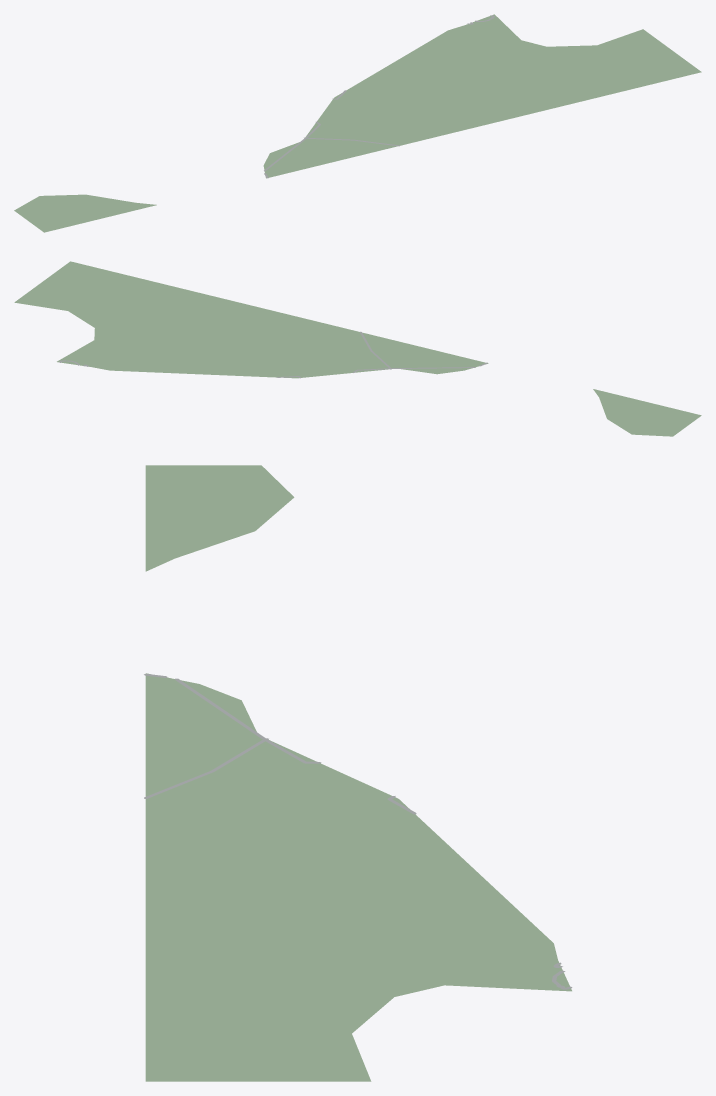
File: -8_13-known-fine.glb
3 views of the same model, one above another, from view 1: azimuth 30°, elevation 25°; view 2: azimuth 150°, elevation 25°; view 3: azimuth 270°, elevation 25° (orthographic). The views are drawn at different scales.
Bounding box in the file's own units: 1000 × 0.1 × 294.
